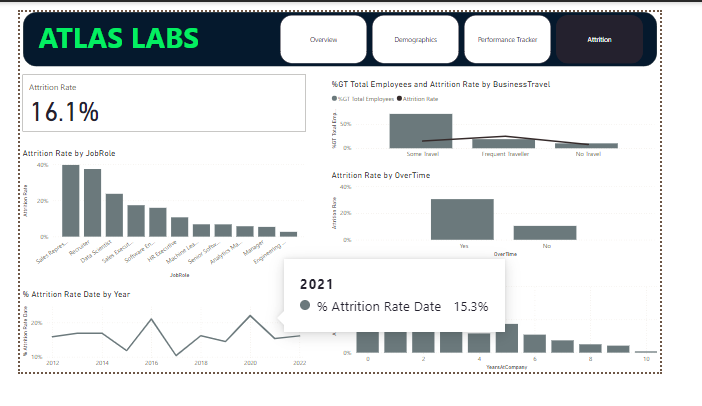

The dashboard page shown, as its layout file describes it:
{"tool":"powerbi","page":{"name":"Attrition","canvas":[1280,720],"ordinal":3},"visuals":[{"type":"cardVisual","fields":{"Data":["_Measures.Attrition Rate"]},"box":[0,120,577.1,124.3],"z":0},{"type":"clusteredColumnChart","fields":{"Y":["_Measures.Attrition Rate"],"Category":["DimEmployee.JobRole"]},"box":[0,272.9,577.1,264.3],"z":1000},{"type":"lineChart","fields":{"Y":["_Measures.% Attrition Rate Date"],"Category":["DimDate.Date.Variation.Date Hierarchy.Year"]},"box":[0,554.3,577.1,165.7],"z":2000},{"type":"lineStackedColumnComboChart","fields":{"Category":["DimEmployee.BusinessTravel"],"Y":["_Measures.Total Employees"],"Y2":["_Measures.Attrition Rate"]},"box":[618.6,134.3,655.7,168.6],"z":3000},{"type":"columnChart","fields":{"Category":["DimEmployee.OverTime"],"Y":["_Measures.Attrition Rate"]},"box":[618.6,315.7,655.7,178.6],"z":4000},{"type":"clusteredColumnChart","fields":{"Category":["DimEmployee.YearsAtCompany"],"Y":["_Measures.Attrition Rate"]},"box":[618.6,515.7,661.4,204.3],"z":5000},{"type":"shape","box":[5.9,0,1268.2,109],"z":5500,"group":"g1"},{"type":"group","id":"g1","title":"Group 1","box":[5.9,0,1268.1,108.7],"z":6000},{"type":"textbox","box":[31.3,6,440.7,97.1],"z":6000,"group":"g1"},{"type":"pageNavigator","box":[519.8,6,729,97.1],"z":8000,"group":"g1"}]}

Visuals, with their boxes in screenshot pixels (x1, y1, x2, y2), scaled from the page's 1280x720 canvas onto the 702x406 screenshot:
cardVisual - _Measures.Attrition Rate: <region>0, 68, 317, 138</region>
clusteredColumnChart - _Measures.Attrition Rate x DimEmployee.JobRole: <region>0, 154, 317, 303</region>
lineChart - _Measures.% Attrition Rate Date x DimDate.Date.Variation.Date Hierarchy.Year: <region>0, 313, 317, 405</region>
lineStackedColumnComboChart - DimEmployee.BusinessTravel x _Measures.Total Employees: <region>339, 76, 699, 171</region>
columnChart - DimEmployee.OverTime x _Measures.Attrition Rate: <region>339, 178, 699, 279</region>
clusteredColumnChart - DimEmployee.YearsAtCompany x _Measures.Attrition Rate: <region>339, 291, 701, 405</region>
shape: <region>3, 0, 699, 61</region>
"Group 1" group: <region>3, 0, 699, 61</region>
textbox: <region>17, 3, 259, 58</region>
pageNavigator: <region>285, 3, 685, 58</region>
